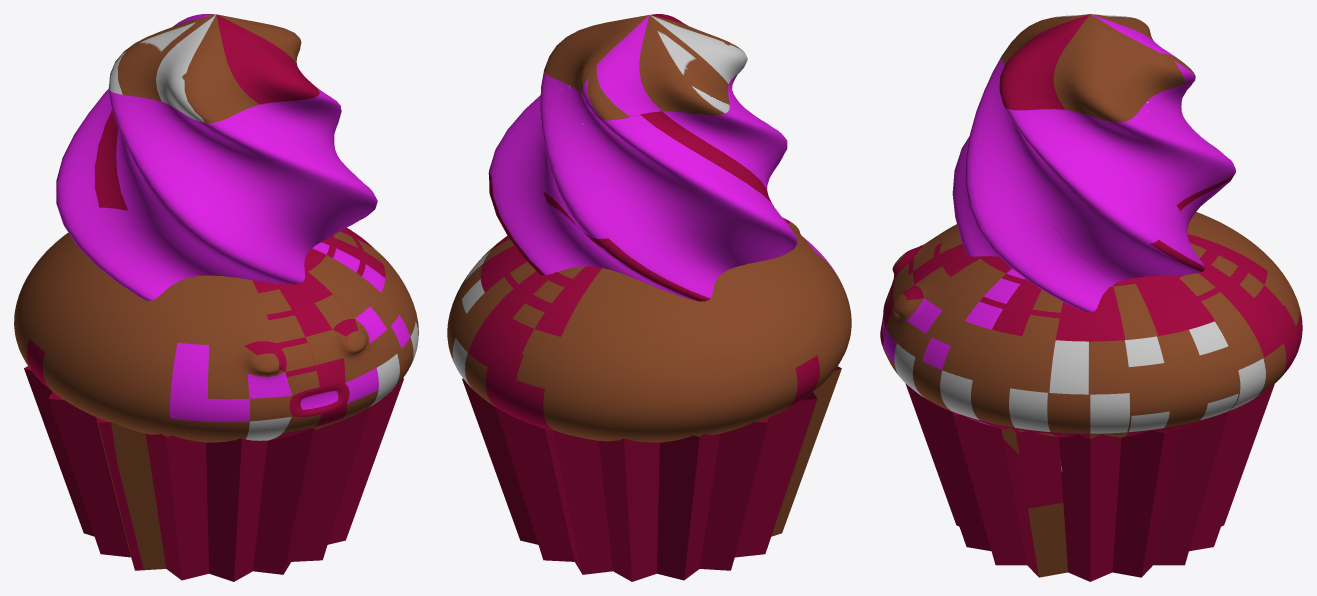
File: cupcake.obj
3 renders of one model, left to right at view 1: azimuth 30°, elevation 25°; view 2: azimuth 150°, elevation 25°; view 3: azimuth 270°, elevation 25°, orthographic.
Parts seen in each view (by area): view 1: Star.002, Sphere, Circle.001; view 2: Star.002, Sphere, Circle.001; view 3: Sphere, Star.002, Circle.001.
Boxes of the visible parts, x1,y1,x2,y2 form: Star.002: (56,14,377,300); Sphere: (14,227,418,442); Circle.001: (24,366,403,581); Star.002: (488,14,797,301); Sphere: (447,218,851,442); Circle.001: (462,366,841,581); Sphere: (880,212,1302,438); Star.002: (952,14,1235,312); Circle.001: (905,383,1274,581).
Bounding box in the file's own units: 1.17 × 1.66 × 1.24.
